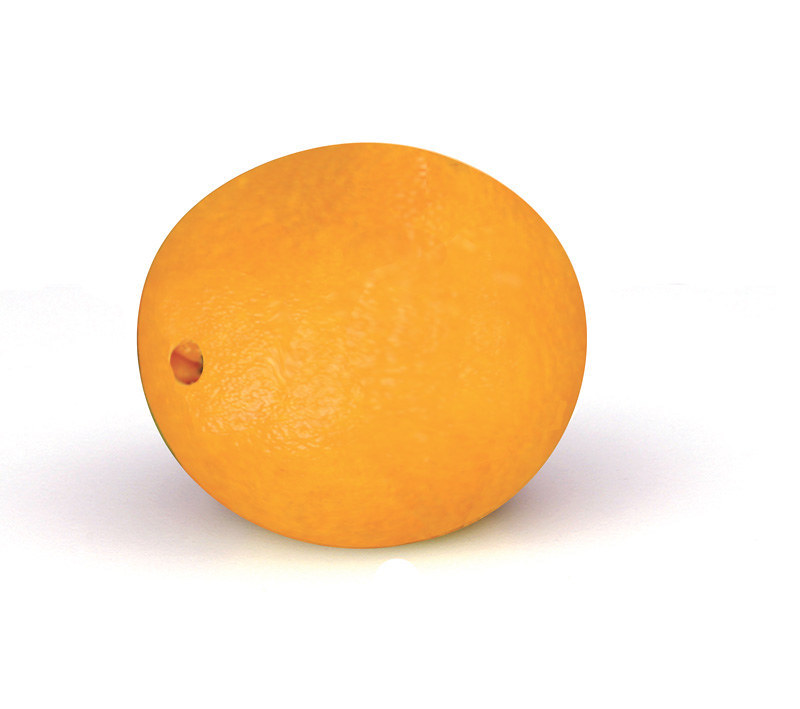orange: (131, 139, 596, 552)
